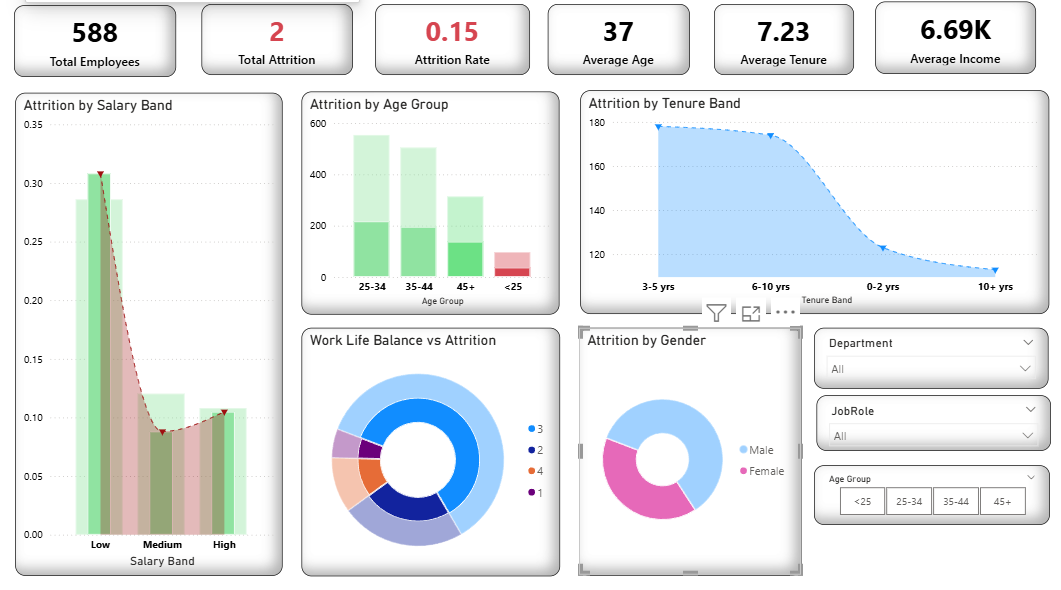

Layout of this report page (visuals, bound fields, positions):
{"tool":"powerbi","page":{"name":"Page 1","canvas":[1280,720],"ordinal":0},"visuals":[{"type":"card","fields":{"Values":["HR-Employee-Attrition.Total Employees"]},"box":[24.2,12.9,193.5,85.5],"z":0},{"type":"card","fields":{"Values":["Count(HR-Employee-Attrition.Attrition)"]},"box":[248.1,11.5,180.8,84.6],"z":1000},{"type":"card","fields":{"Values":["HR-Employee-Attrition.Attrition Rate"]},"box":[455.8,11.5,184.6,84.6],"z":2000},{"type":"card","fields":{"Values":["HR-Employee-Attrition.Average Age"]},"box":[661.5,11.5,169.2,84.6],"z":3000},{"type":"card","fields":{"Values":["HR-Employee-Attrition.Average Tenure"]},"box":[859.6,11.5,167.3,84.6],"z":4000},{"type":"card","fields":{"Values":["HR-Employee-Attrition.Average Income"]},"box":[1051.9,9.6,192.3,86.5],"z":5000},{"type":"clusteredColumnChart","title":"Attrition by Age Group","fields":{"Category":["HR-Employee-Attrition.Age Group"],"Y":["CountNonNull(HR-Employee-Attrition.Attrition)"]},"box":[366.7,115.7,307.8,266.7],"z":6000},{"type":"lineClusteredColumnComboChart","title":"Attrition by Salary Band","fields":{"Category":["HR-Employee-Attrition.Salary Band"],"Y":["HR-Employee-Attrition.Attrition Rate"],"Y2":["HR-Employee-Attrition.Attrition Rate"]},"box":[25,117.3,319.2,576.9],"z":7000},{"type":"lineChart","title":"Attrition by Tenure Band","fields":{"Category":["HR-Employee-Attrition.Tenure Band"],"Y":["CountNonNull(HR-Employee-Attrition.Attrition)"]},"box":[700,115.4,559.6,267.3],"z":8000},{"type":"donutChart","title":"Work Life Balance vs Attrition","fields":{"Category":["HR-Employee-Attrition.WorkLifeBalance"],"Y":["CountNonNull(HR-Employee-Attrition.Attrition)"]},"box":[366.7,398.6,308.7,297.1],"z":9000},{"type":"pieChart","title":"Attrition by Gender","fields":{"Category":["HR-Employee-Attrition.Gender"],"Y":["CountNonNull(HR-Employee-Attrition.EmployeeNumber)"]},"box":[698.1,398.1,265.4,296.2],"z":10000},{"type":"slicer","fields":{"Values":["HR-Employee-Attrition.Department"]},"box":[979.7,398.3,279.7,72.9],"z":11000},{"type":"slicer","fields":{"Values":["HR-Employee-Attrition.JobRole"]},"box":[981.4,479.7,279.7,66.1],"z":12000},{"type":"slicer","fields":{"Values":["HR-Employee-Attrition.Age Group"]},"box":[979.7,562.7,279.7,130.5],"z":13000}]}

Visuals, with their boxes in screenshot pixels (x1, y1, x2, y2), scaled from the page's 1280x720 canvas onto the 1061x590 screenshot:
card - HR-Employee-Attrition.Total Employees: x1=20, y1=11, x2=180, y2=81
card - Count(HR-Employee-Attrition.Attrition): x1=206, y1=9, x2=356, y2=79
card - HR-Employee-Attrition.Attrition Rate: x1=378, y1=9, x2=531, y2=79
card - HR-Employee-Attrition.Average Age: x1=548, y1=9, x2=689, y2=79
card - HR-Employee-Attrition.Average Tenure: x1=713, y1=9, x2=851, y2=79
card - HR-Employee-Attrition.Average Income: x1=872, y1=8, x2=1031, y2=79
"Attrition by Age Group" clusteredColumnChart: x1=304, y1=95, x2=559, y2=313
"Attrition by Salary Band" lineClusteredColumnComboChart: x1=21, y1=96, x2=285, y2=569
"Attrition by Tenure Band" lineChart: x1=580, y1=95, x2=1044, y2=314
"Work Life Balance vs Attrition" donutChart: x1=304, y1=327, x2=560, y2=570
"Attrition by Gender" pieChart: x1=579, y1=326, x2=799, y2=569
slicer - HR-Employee-Attrition.Department: x1=812, y1=326, x2=1044, y2=386
slicer - HR-Employee-Attrition.JobRole: x1=813, y1=393, x2=1045, y2=447
slicer - HR-Employee-Attrition.Age Group: x1=812, y1=461, x2=1044, y2=568
